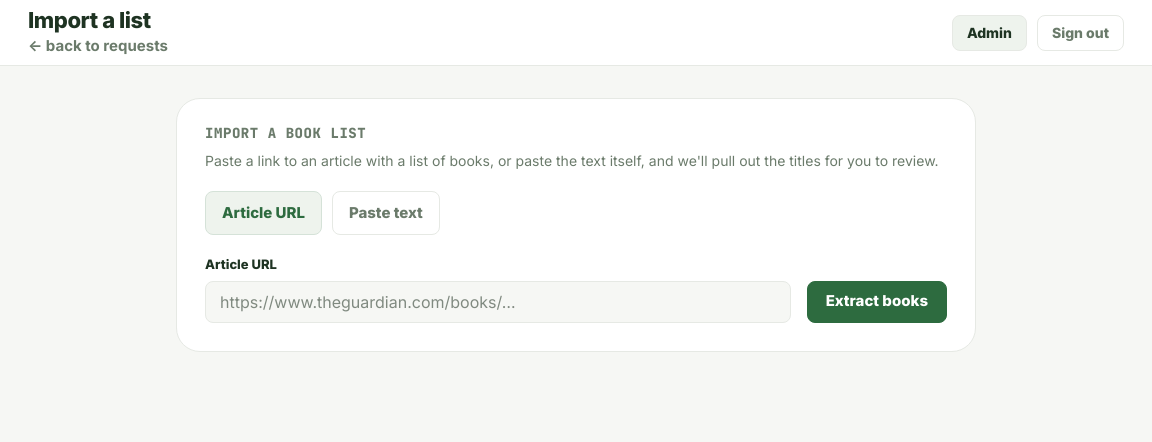
it: ImportRoute — results stage › marks pending books as errors if the job disappears
Type "https://example.com/list" into the field labelled "Article URL" at (498, 302), box top-left (205, 280), bottom-right (791, 322)
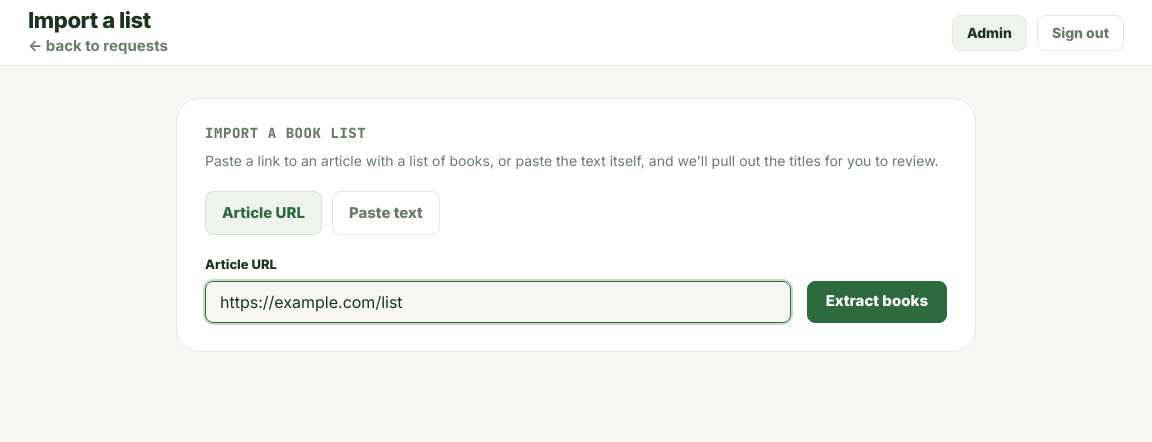
Click the button "Extract books" at (877, 302), box top-left (807, 280), bottom-right (947, 322)
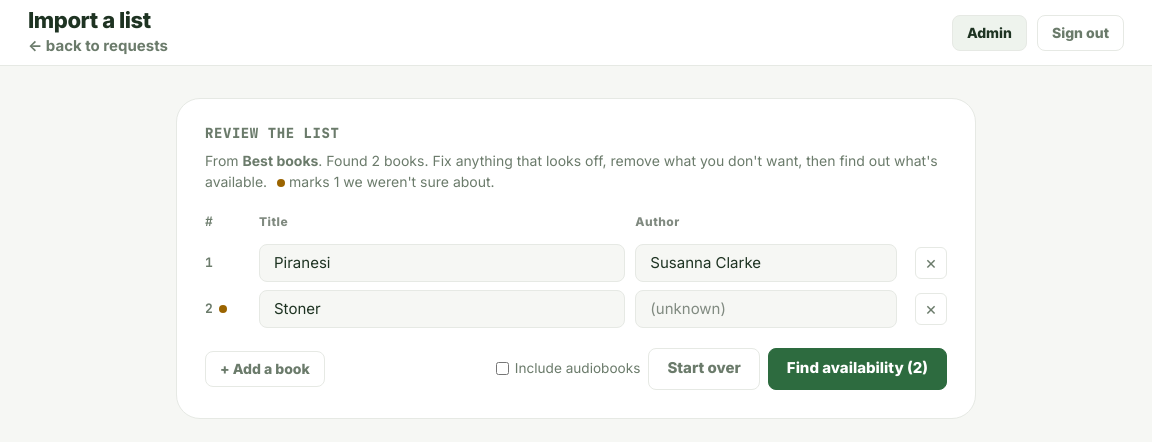
Expected: the element with test id "import-review" is shown, top-left (176, 98), bottom-right (976, 418)
Click the button "Find availability (2)" at (857, 368), box top-left (768, 348), bottom-right (947, 390)
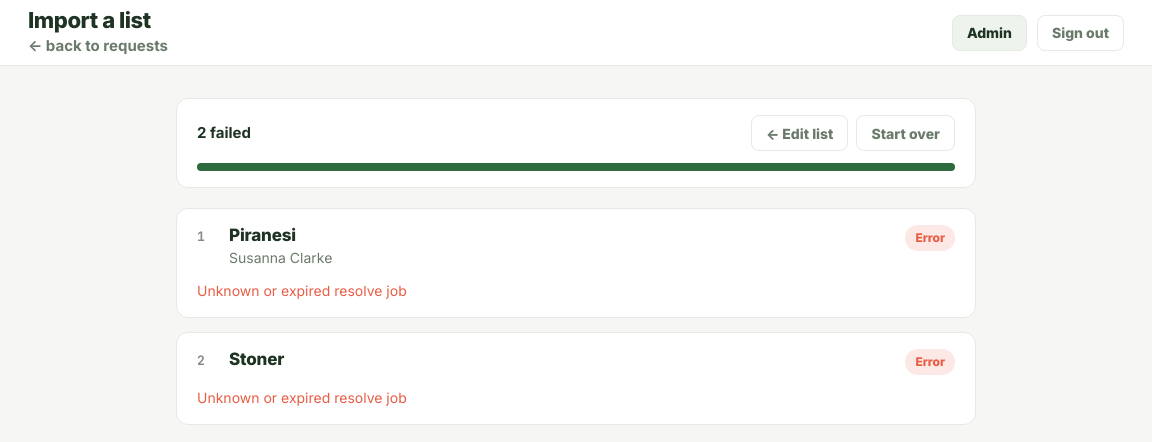
Expected: the element with test id "import-results" is shown, top-left (176, 98), bottom-right (976, 425)
Expected: the text with test id "import-summary" reads "2 failed", top-left (197, 123), bottom-right (251, 142)
